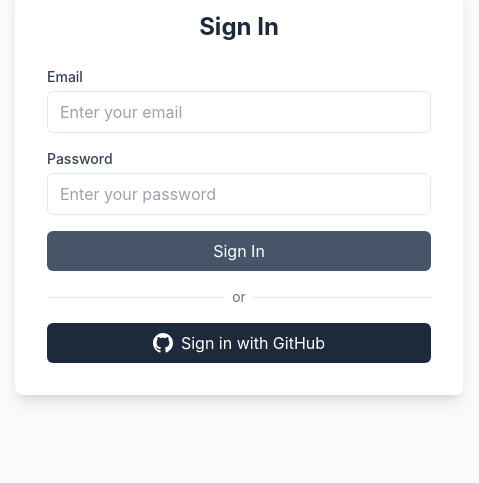
Test case: LoginForm › shows error on failure
In the field labelled "Email": x=239, y=112 [47,91,431,133], type "test@example.com"
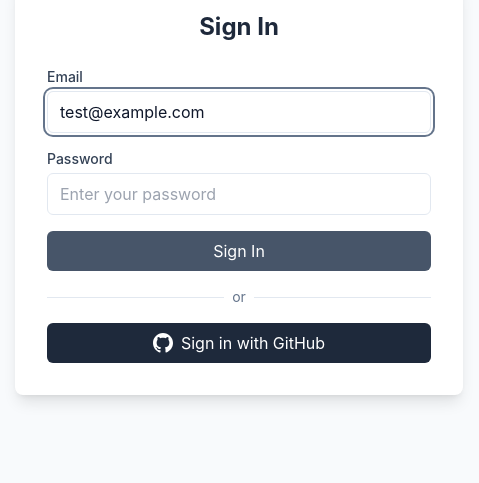
In the password field labelled "Password": x=239, y=194 [47,173,431,215], type "wrong"
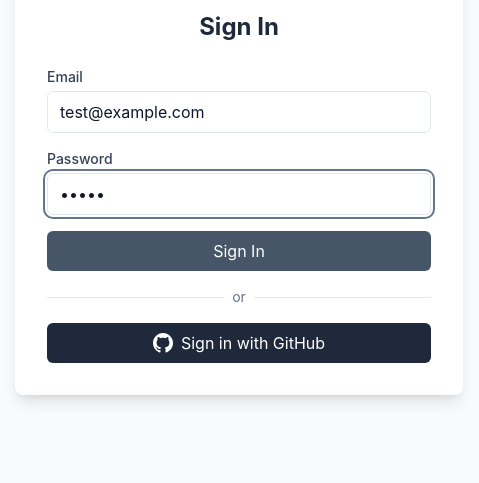
Click the button "Sign In": x=239, y=251 [47,231,431,271]
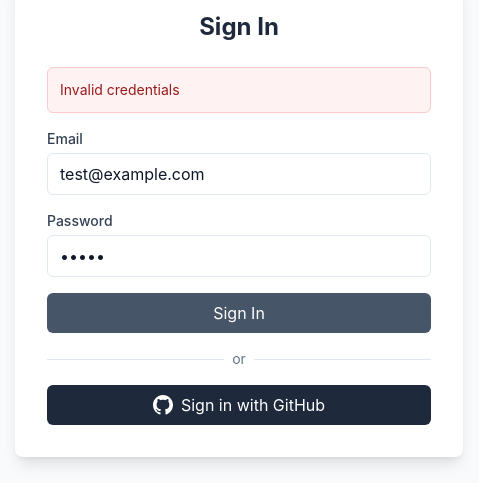
Expected: the text "Invalid credentials" is shown, [60,81,180,98]
